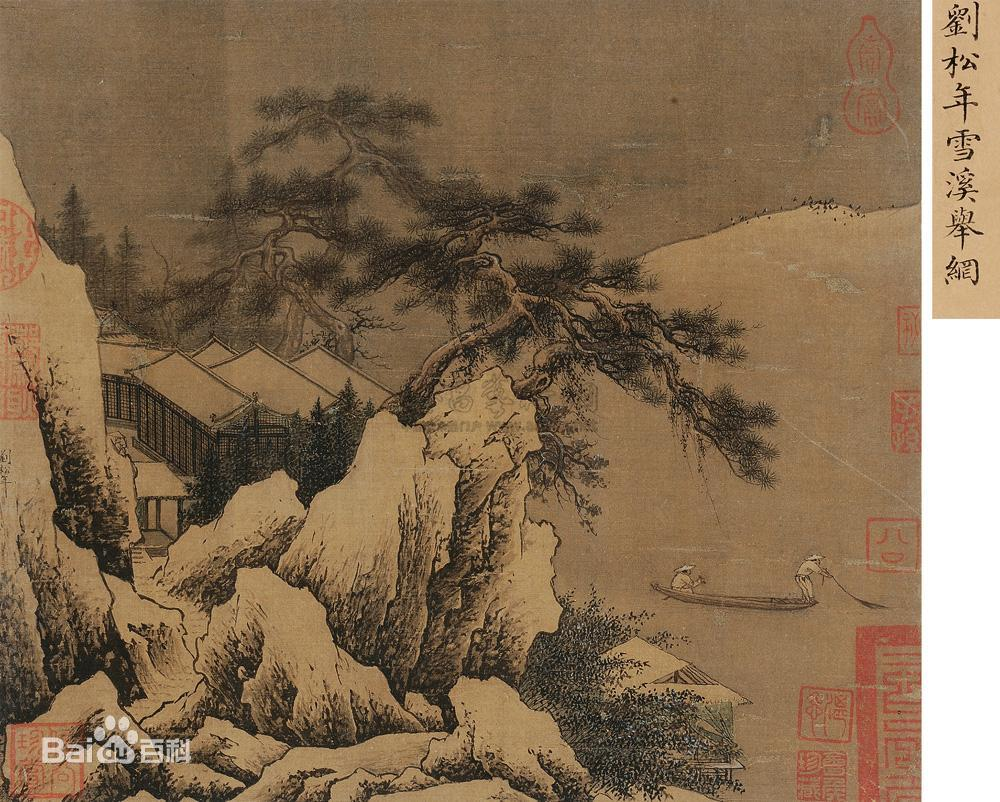boat: (640, 545, 887, 622)
booth: (579, 627, 769, 802)
hill: (218, 357, 556, 796)
house: (87, 321, 370, 545)
man: (662, 558, 714, 602), (793, 551, 827, 605)
tree: (336, 184, 798, 504), (113, 75, 441, 352)
